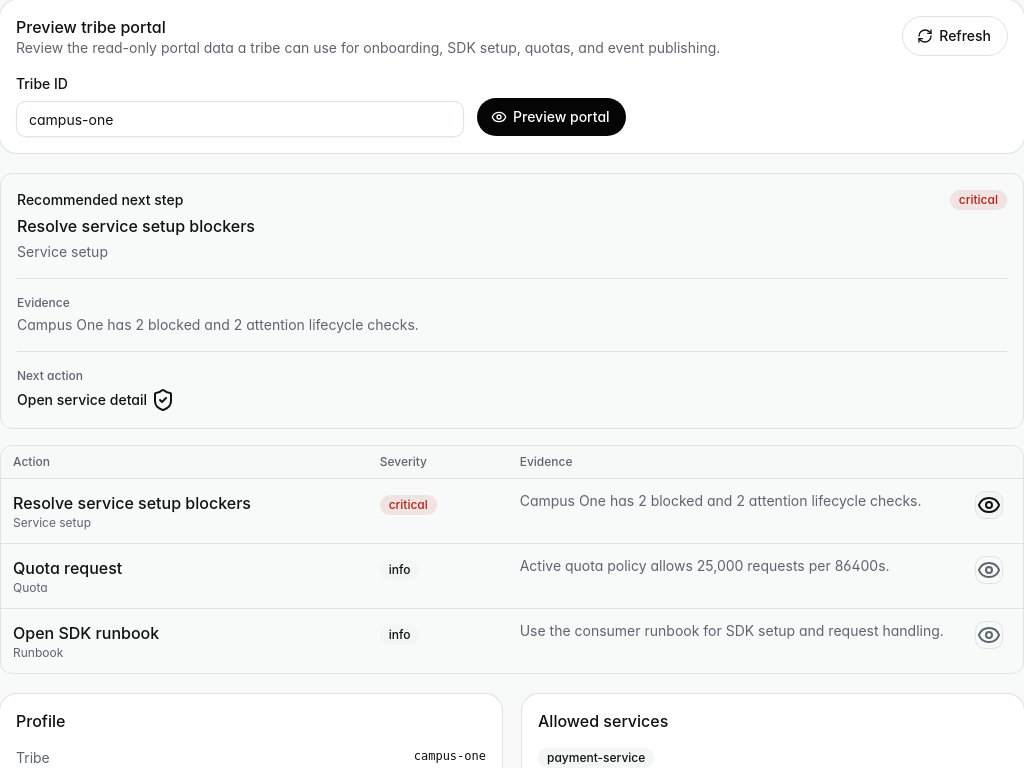
it: DeveloperPortalPreview › prioritizes developer setup actions with one selected detail
Check: the element named "Selected developer portal action" shows "Resolve service setup blockers", box [17,216,255,236]
Check: the element named "Selected developer portal action" shows "Campus One has 2 blocked and 2 attention lifecycle checks.", box [17,316,419,333]
Click the button named "inspect developer portal action quota request" at (989, 570), box [975,556,1003,584]
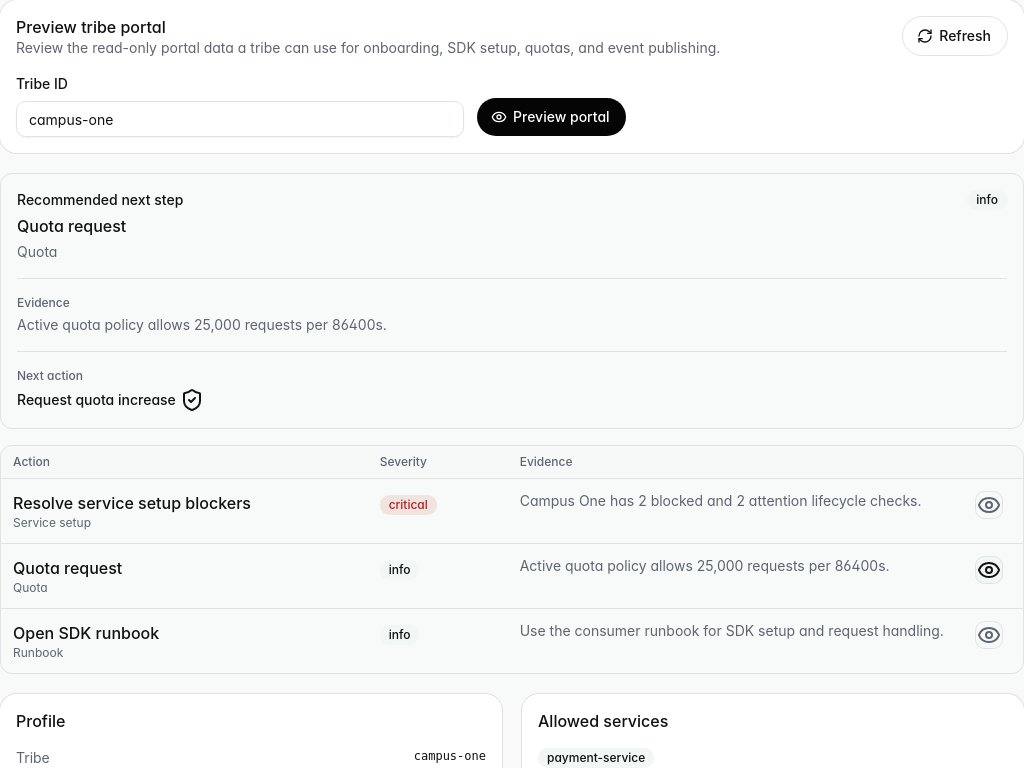
Check: the element named "Selected developer portal action" shows "Active quota policy allows 25,000 requests per 86400s.", box [17,316,387,333]
